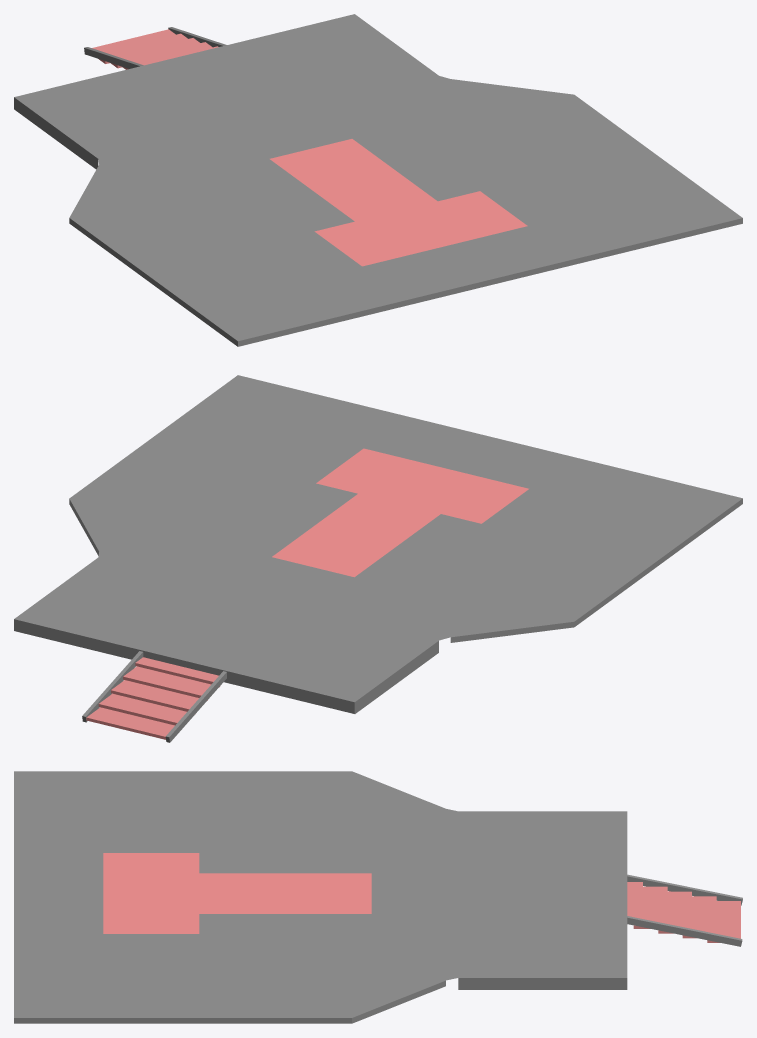
The model's file is pm_landmark_camp01.gltf.
The picture shows the model from 3 angles, top to bottom: view 1: azimuth 30°, elevation 25°; view 2: azimuth 150°, elevation 25°; view 3: azimuth 270°, elevation 25°; orthographic projection.
Visible parts, largest first — view 1: pm_landmark_camp01; view 2: pm_landmark_camp01; view 3: pm_landmark_camp01.
Boxes of the visible parts, x1=… form: pm_landmark_camp01: x1=14, y1=14, x2=742, y2=346; pm_landmark_camp01: x1=14, y1=375, x2=742, y2=742; pm_landmark_camp01: x1=14, y1=771, x2=742, y2=1023.
Bounding box in the file's own units: 4.97 × 0.2938 × 6.2.
